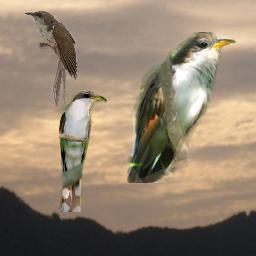Cuckoo: (127, 32, 236, 183), (58, 90, 107, 212), (24, 10, 77, 106)
